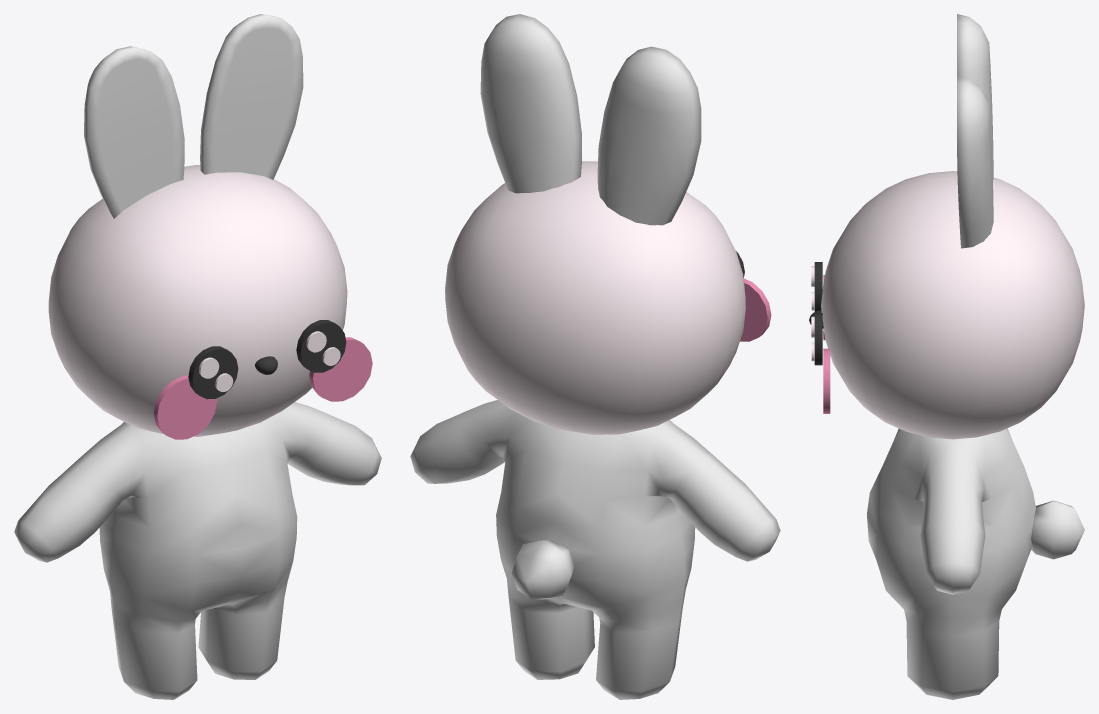
Rendered from rabbit.fbx.
3 views of the same model, side by side, from view 1: azimuth 30°, elevation 25°; view 2: azimuth 150°, elevation 25°; view 3: azimuth 270°, elevation 25° (orthographic). The views are drawn at different scales.
Parts seen in each view (by area): view 1: Ryan_body, Ryan_head, Ryan_ear, Ryan_eye2.005, Ryan_eye2, Ryan_eye2.004, Ryan_eye2.001; view 2: Ryan_head, Ryan_body, Ryan_ear, Ryan_tail, Ryan_eye2.005; view 3: Ryan_head, Ryan_body, Ryan_ear, Ryan_tail, Ryan_eye2, Ryan_eye2.005.
Part boxes in pixels (x1,y1,x2,y2): Ryan_body: [14, 402, 381, 699]; Ryan_head: [48, 165, 347, 436]; Ryan_ear: [84, 14, 303, 218]; Ryan_eye2.005: [153, 337, 372, 439]; Ryan_eye2: [188, 320, 346, 399]; Ryan_eye2.004: [306, 331, 340, 365]; Ryan_eye2.001: [199, 357, 233, 391]; Ryan_head: [445, 161, 745, 434]; Ryan_body: [410, 400, 780, 699]; Ryan_ear: [480, 14, 701, 225]; Ryan_tail: [511, 540, 574, 599]; Ryan_eye2.005: [740, 278, 771, 341]; Ryan_head: [821, 171, 1084, 439]; Ryan_body: [867, 428, 1035, 699]; Ryan_ear: [957, 14, 993, 248]; Ryan_tail: [1031, 500, 1084, 559]; Ryan_eye2: [814, 262, 822, 365]; Ryan_eye2.005: [823, 275, 830, 413].
Bounding box in the file's own units: 344 × 592 × 236.
